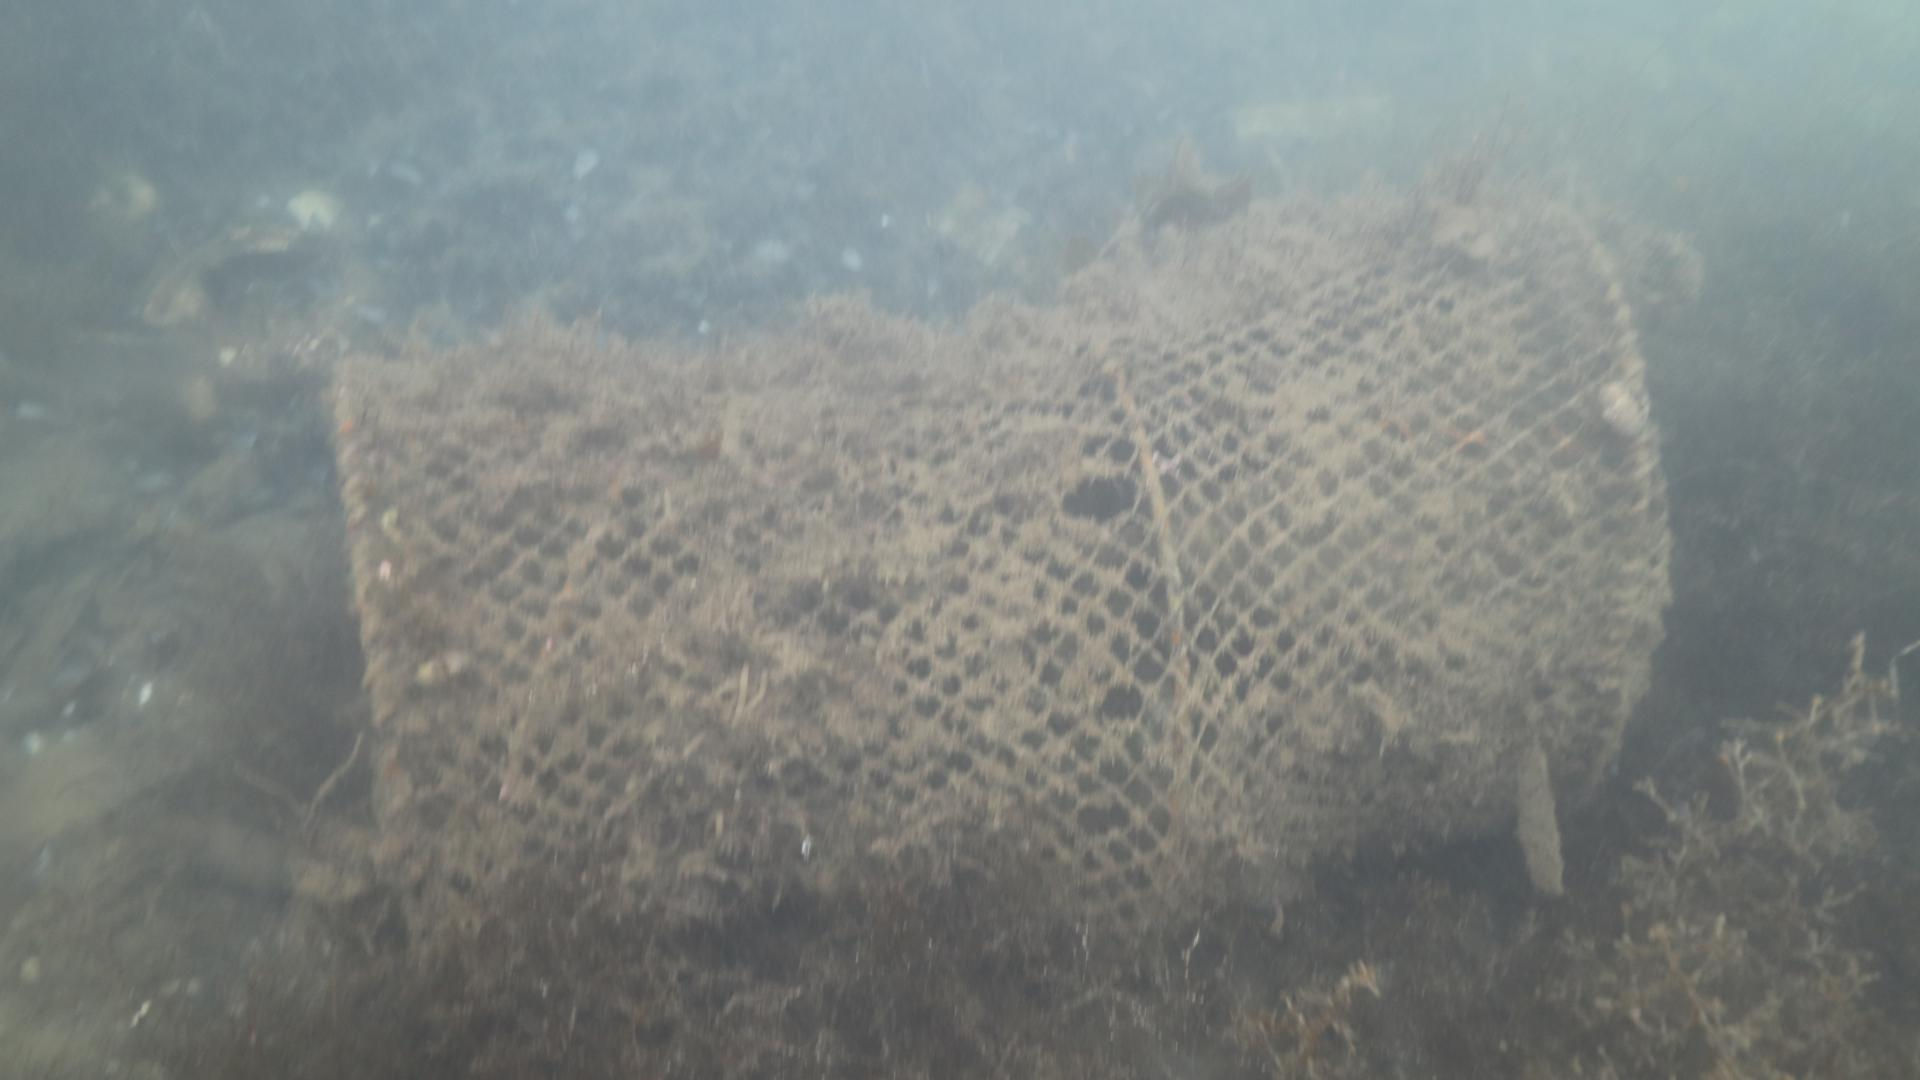spring fish trap: (327, 187, 1659, 967)
